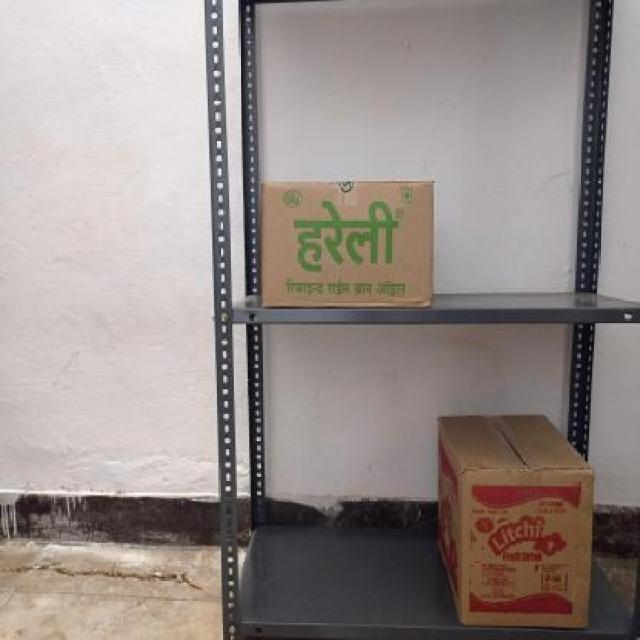box: (260, 182, 434, 307), (464, 468, 590, 632)
